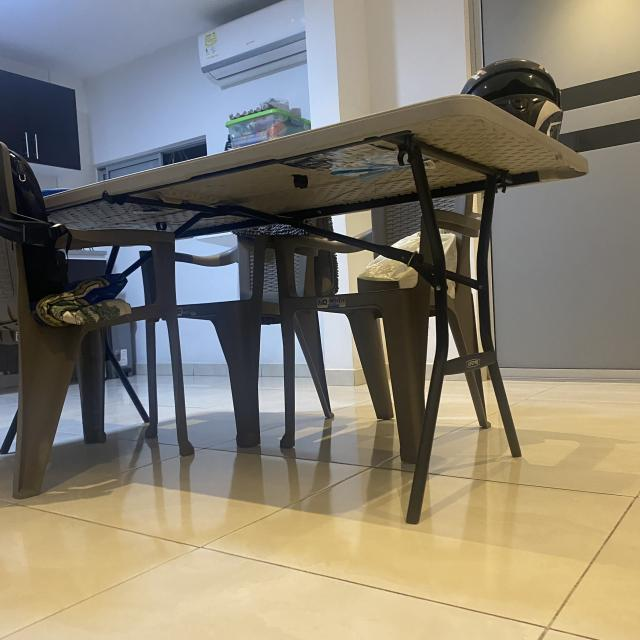obstacle: (11, 132, 590, 528)
